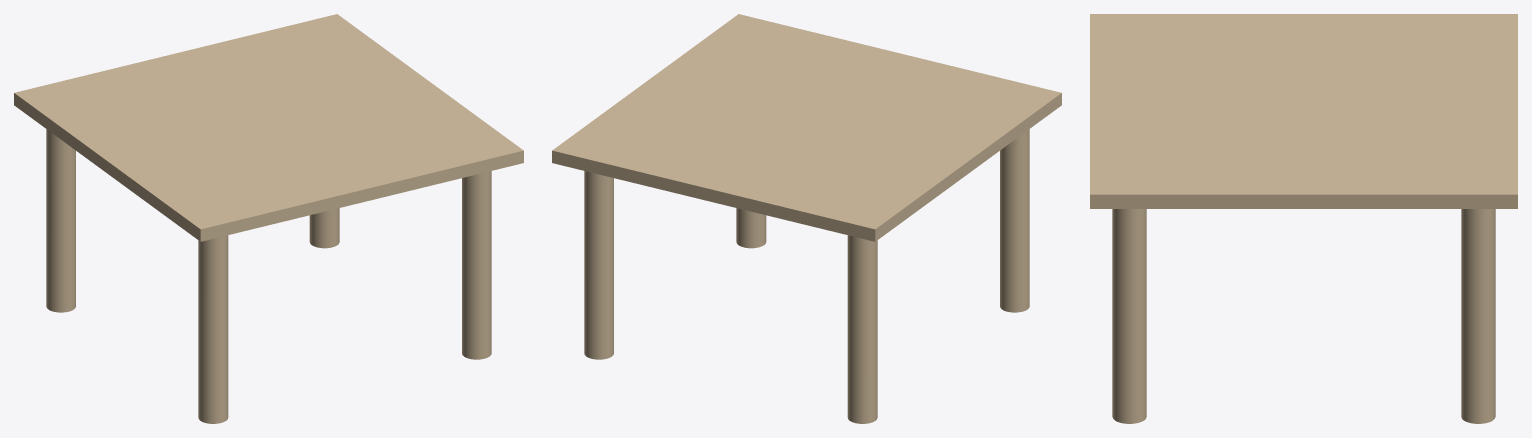
File: newport-54404-g2-proxy.glb
3 renders of one model, left to right at view 1: azimuth 30°, elevation 25°; view 2: azimuth 150°, elevation 25°; view 3: azimuth 270°, elevation 25°, orthographic. The views are drawn at different scales.
Parts seen in each view (by area): view 1: proxy_body, leg (×4); view 2: proxy_body, leg (×4); view 3: proxy_body, leg (×2).
Boxes of the visible parts, <box> form: proxy_body: <box>14,14,523,241</box>; leg (×4): <box>46,129,491,423</box>; proxy_body: <box>552,14,1061,241</box>; leg (×4): <box>584,129,1029,423</box>; proxy_body: <box>1090,14,1517,208</box>; leg (×2): <box>1112,209,1495,423</box>.
Size of the model in its own units: 0.65 by 0.4 by 0.65.
